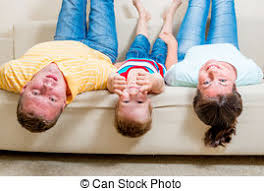no-mask: (14, 57, 69, 136), (192, 58, 244, 136), (108, 83, 163, 138)
